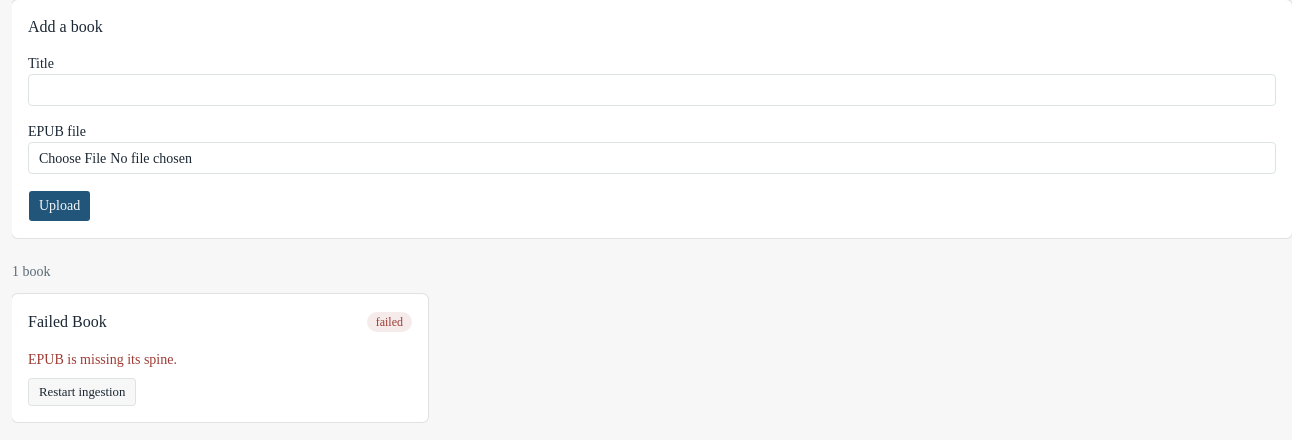
it: LibraryScreen (failed source) › restarts a failed source through the proxy and reflects processing
Expected: the text "EPUB is missing its spine." is shown, x1=28 y1=352 x2=177 y2=367
Click the button "Restart ingestion" at (82, 392), box x1=28 y1=378 x2=136 y2=406
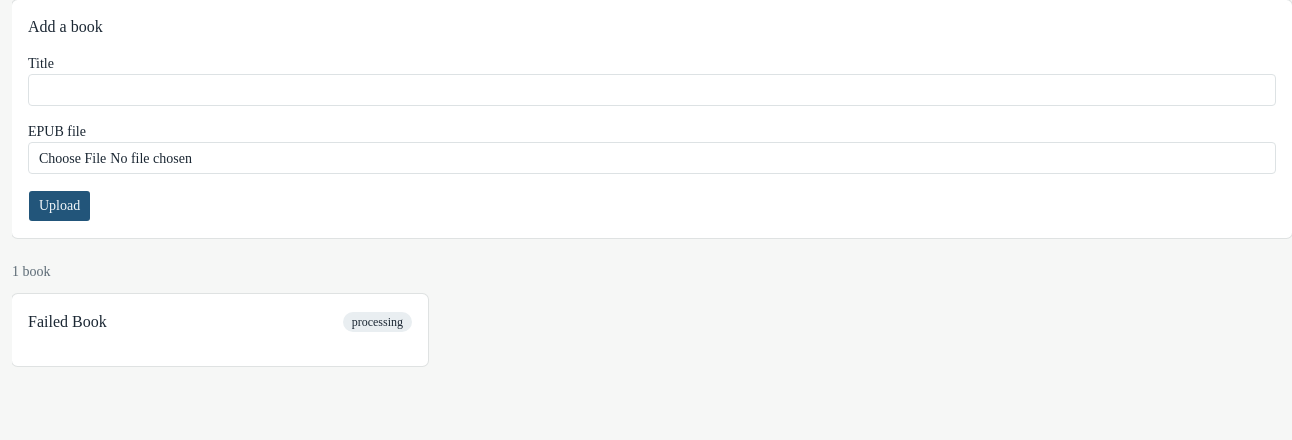
Result: the text with test id "status-s-fail" reads "processing" at x1=352 y1=315 x2=403 y2=329
